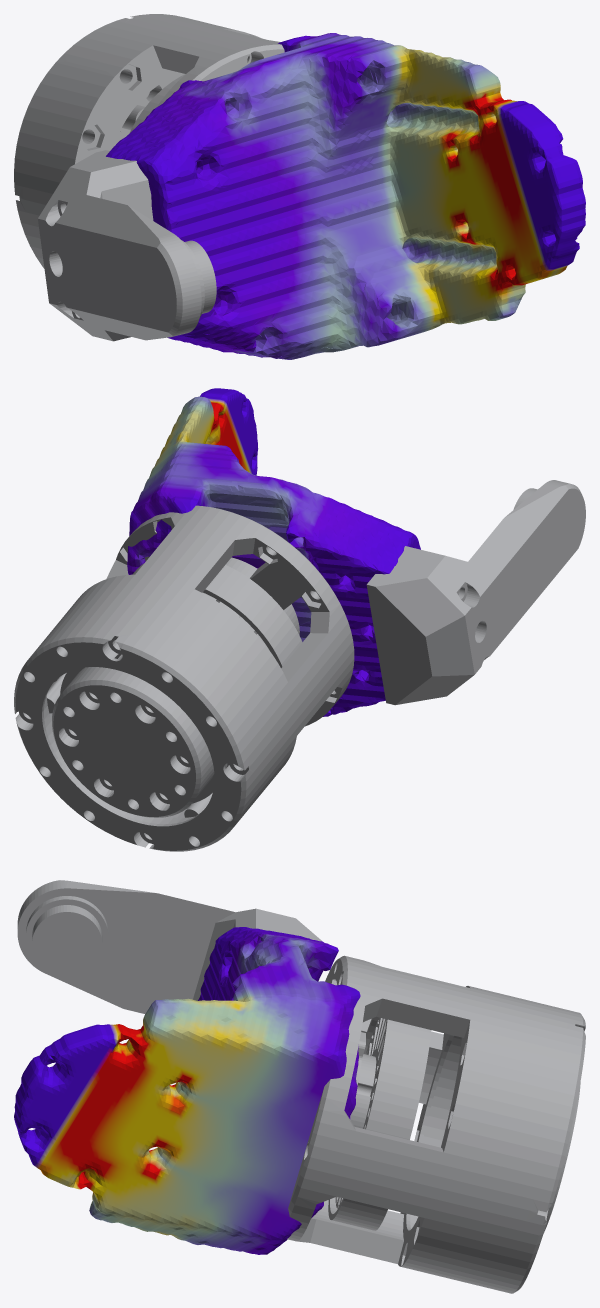
File: arm_right_shoulder_roll_opt.glb
The picture shows the model from 3 angles, top to bottom: view 1: azimuth 30°, elevation 25°; view 2: azimuth 150°, elevation 25°; view 3: azimuth 270°, elevation 25°; orthographic projection. The views are drawn at different scales.
Visible parts, largest first — view 1: arm_right_shoulder_roll_visual.stl; view 2: arm_right_shoulder_roll_visual.stl; view 3: arm_right_shoulder_roll_visual.stl.
Boxes of the visible parts, x1,y1,x2,y2 form: arm_right_shoulder_roll_visual.stl: (14, 14, 585, 359); arm_right_shoulder_roll_visual.stl: (14, 388, 585, 851); arm_right_shoulder_roll_visual.stl: (14, 880, 585, 1293).
Bounding box in the file's own units: 0.1086 × 0.0894 × 0.1385.
